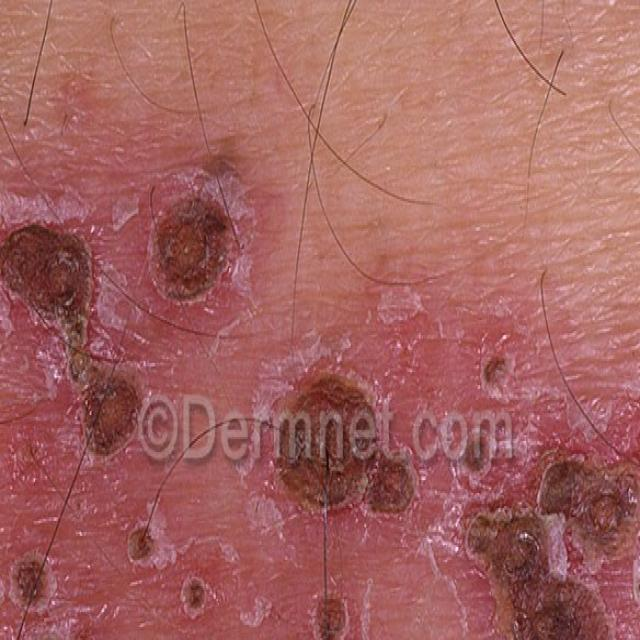Viral Infections: (458, 461, 640, 640), (265, 358, 423, 526), (132, 155, 245, 332), (0, 188, 94, 331), (127, 508, 211, 622), (70, 352, 152, 452), (292, 550, 358, 640), (3, 529, 61, 615), (457, 334, 518, 395), (460, 426, 487, 475), (305, 576, 320, 593)
